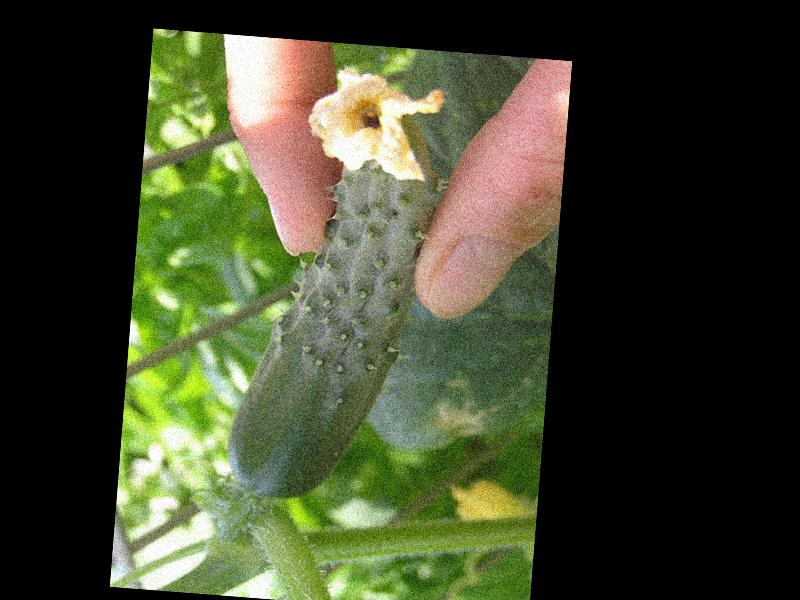Cucumber: (226, 64, 445, 510)
